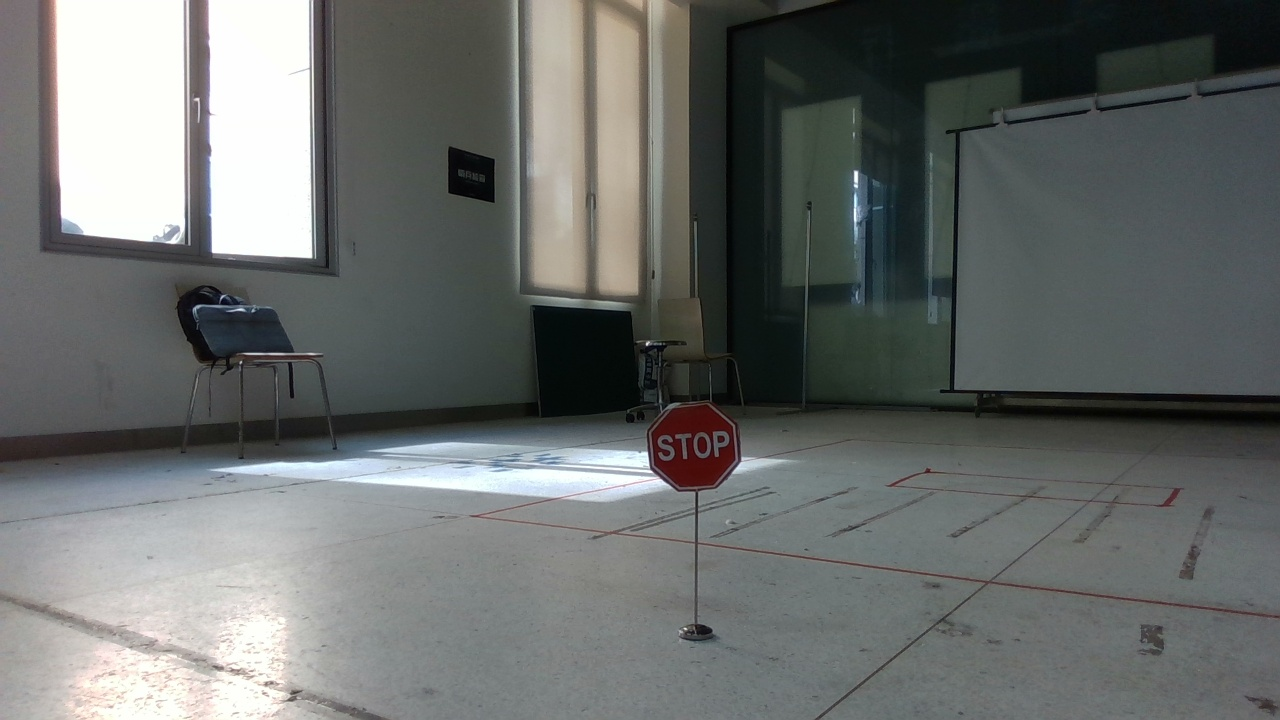stop_sign: (634, 390, 760, 498)
